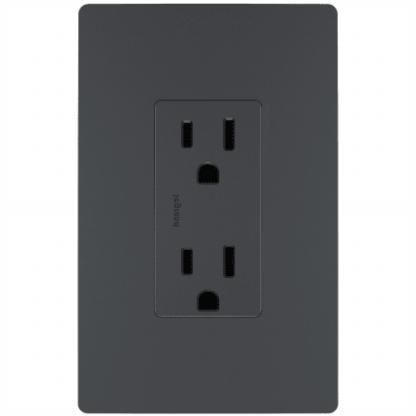OUTLET: (78, 4, 339, 415)
